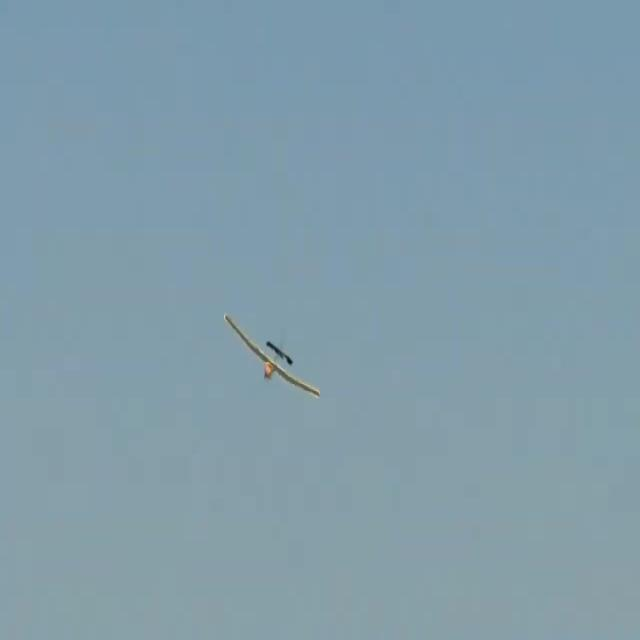iha: (254, 341, 290, 371)
